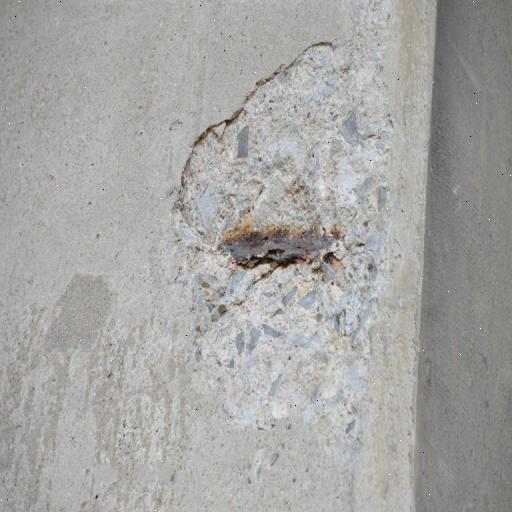spalling: (169, 41, 392, 470)
